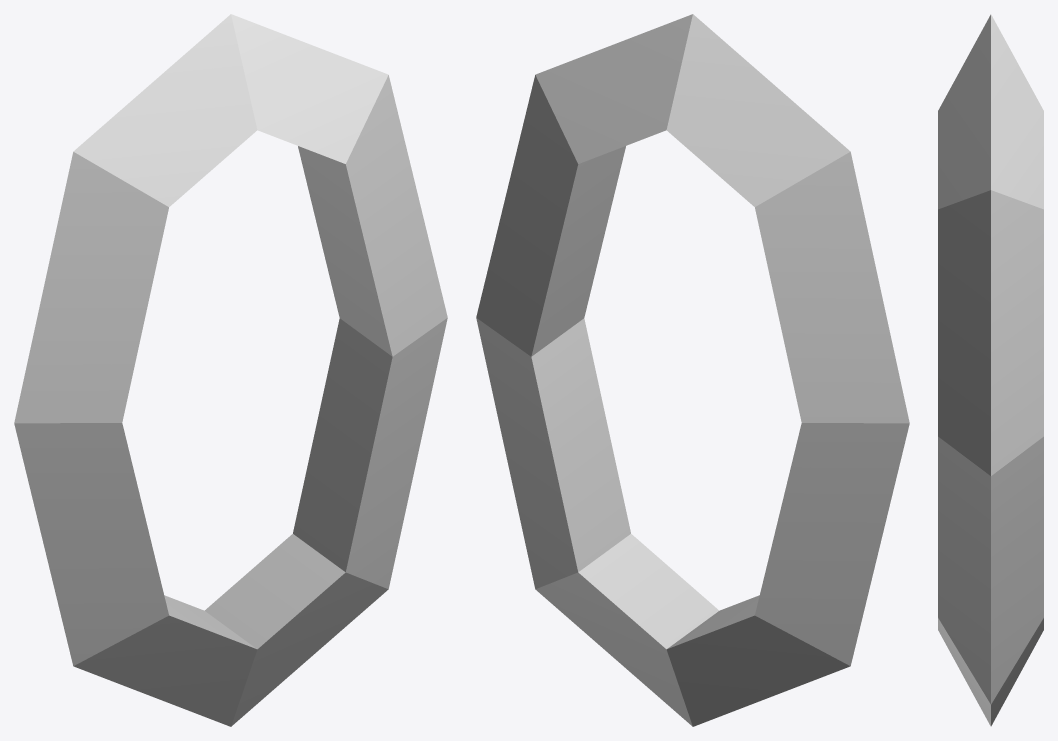
The model's file is Anchor_Chain_OnePart_B.fbx.
3 renders of one model, left to right at view 1: azimuth 30°, elevation 25°; view 2: azimuth 150°, elevation 25°; view 3: azimuth 270°, elevation 25°, orthographic.
Visible parts, largest first — view 1: Anchor_Chain_OnePart_B; view 2: Anchor_Chain_OnePart_B; view 3: Anchor_Chain_OnePart_B.
Boxes of the visible parts, box(x1,y1,x2,y2) form: Anchor_Chain_OnePart_B: box(14, 14, 447, 726); Anchor_Chain_OnePart_B: box(476, 14, 909, 726); Anchor_Chain_OnePart_B: box(938, 14, 1043, 726).
Bounding box in the file's own units: 52.47 × 82.44 × 11.09.
